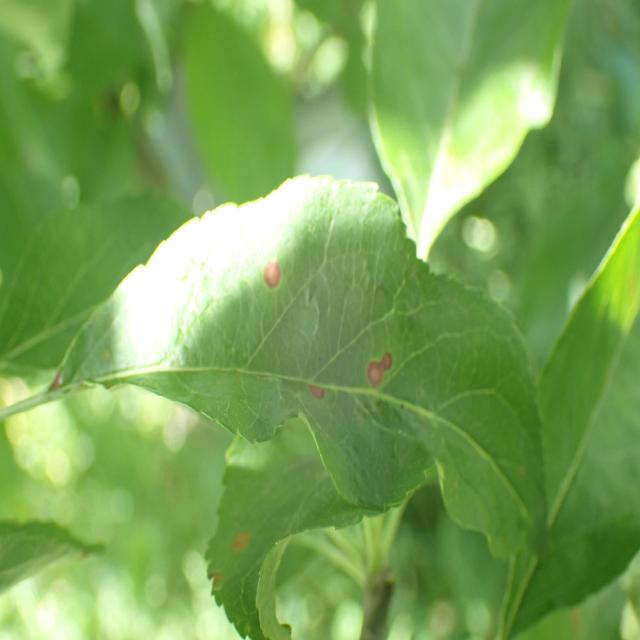Black Rot: (352, 335, 409, 418), (299, 358, 341, 428), (221, 526, 280, 574), (254, 240, 290, 307)
